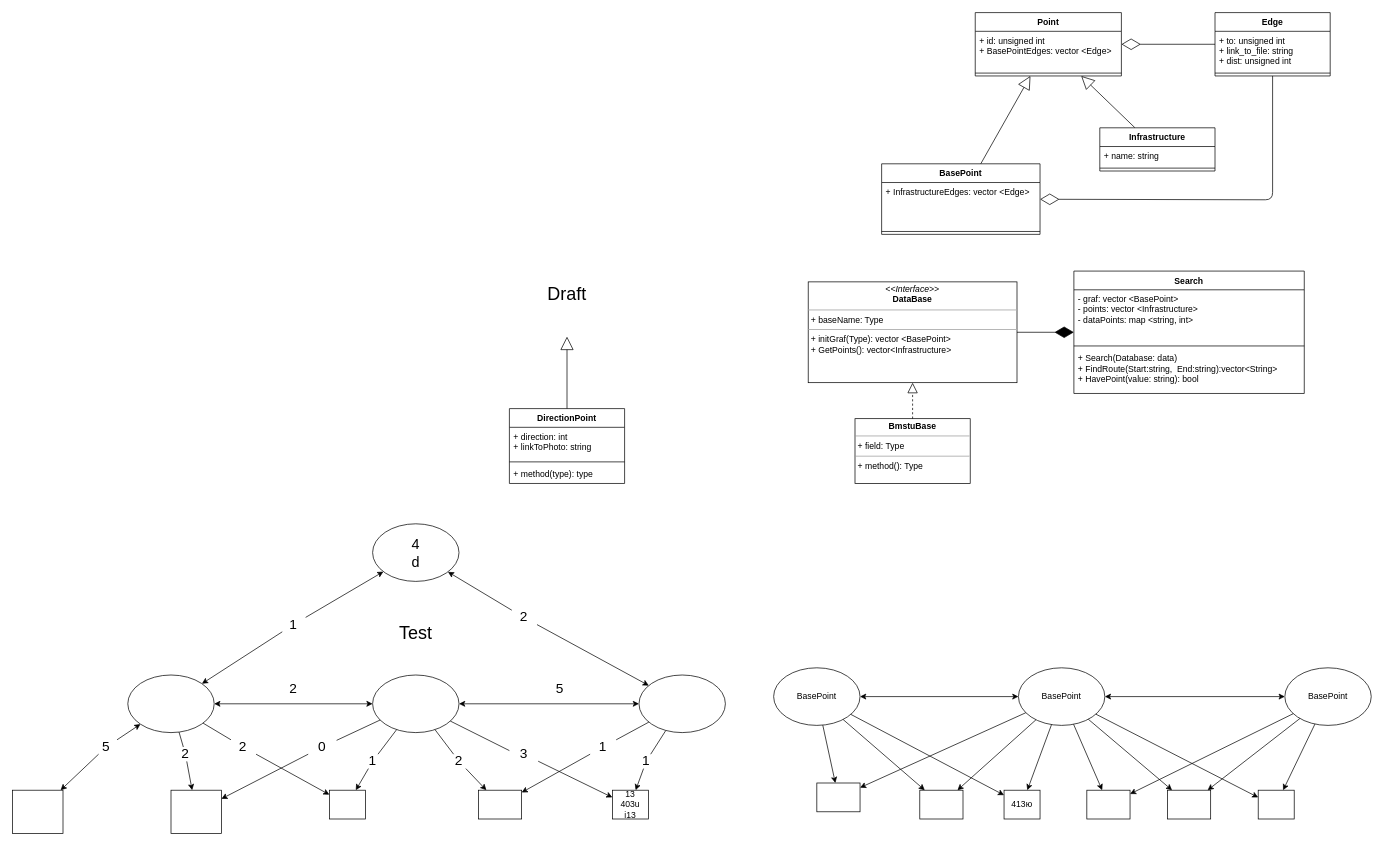
The diagram is 1384 pixels wide and 846 high, and some of its shapes have lost their labels. Here are the shapes that lost their labels. From the top down, the centre of each, then its label:
At point (170, 703): "1 a".
At point (415, 703): "2 b".
At point (681, 703): "3 c".
At point (37, 811): "9 399u i10".
At point (195, 811): "10 400u i10".
At point (347, 804): "11 401u i11".
At point (500, 804): "12 402u i12".
